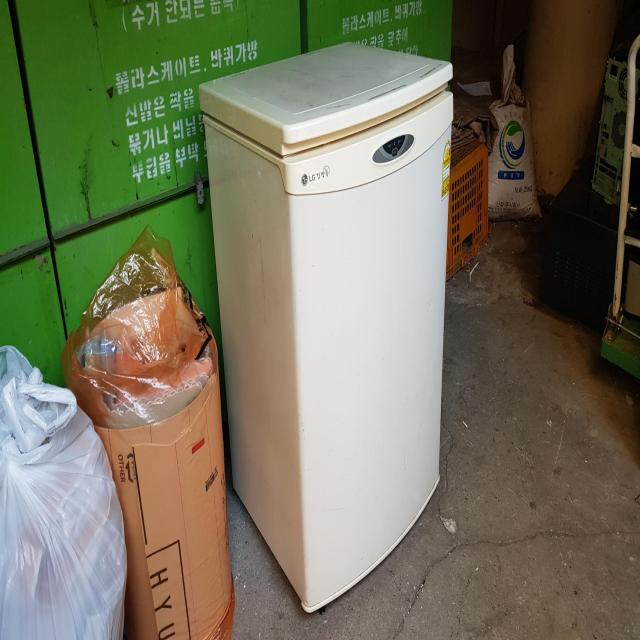refrigerator: (197, 39, 457, 620)
